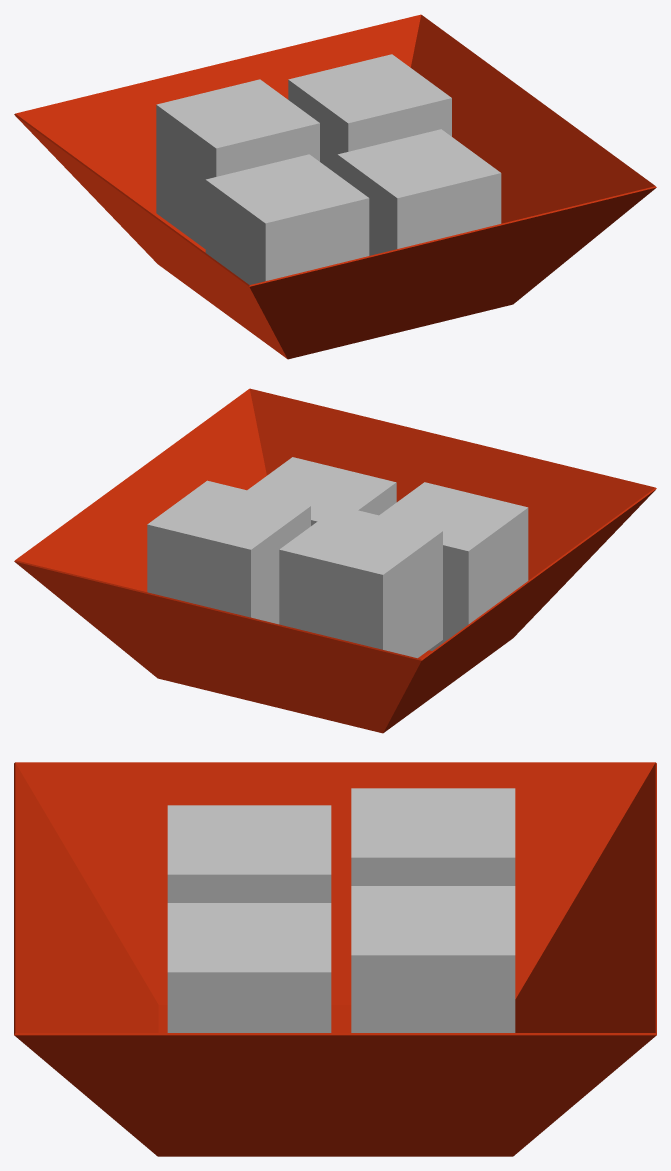
Rendered from TabuaDePo.obj.
3 views of the same model, one above another, from view 1: azimuth 30°, elevation 25°; view 2: azimuth 150°, elevation 25°; view 3: azimuth 270°, elevation 25° (orthographic). The views are drawn at different scales.
Parts seen in each view (by area): view 1: Cubo.002; view 2: Cubo.002; view 3: Cubo.002.
Boxes of the visible parts, x1,y1,x2,y2 form: Cubo.002: (14, 14, 656, 359); Cubo.002: (14, 388, 656, 733); Cubo.002: (14, 762, 656, 1156).
Bounding box in the file's own units: 2.56 × 0.9549 × 2.56.
